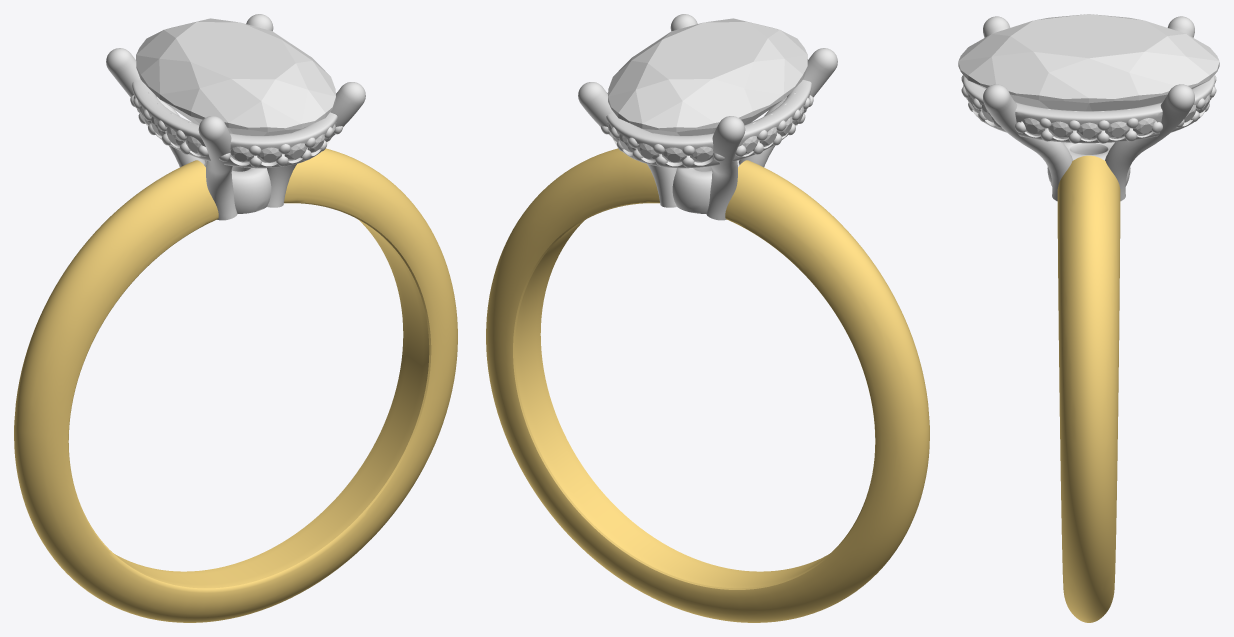
Rendered from RileyPTYGengoval_blender.glb.
3 renders of one model, left to right at view 1: azimuth 30°, elevation 25°; view 2: azimuth 150°, elevation 25°; view 3: azimuth 270°, elevation 25°, orthographic.
Parts seen in each view (by area): view 1: Riley YG for 3d model, Riley dia for 3d model.020, Riley PT for 3d model; view 2: Riley YG for 3d model, Riley dia for 3d model.020, Riley PT for 3d model; view 3: Riley YG for 3d model, Riley dia for 3d model.020, Riley PT for 3d model.
Part boxes in pixels (x1,y1,x2,y2): Riley YG for 3d model: [14, 148, 457, 622]; Riley dia for 3d model.020: [136, 18, 335, 135]; Riley PT for 3d model: [106, 14, 365, 220]; Riley YG for 3d model: [486, 148, 929, 622]; Riley dia for 3d model.020: [608, 18, 807, 135]; Riley PT for 3d model: [578, 14, 837, 220]; Riley YG for 3d model: [1057, 155, 1120, 622]; Riley dia for 3d model.020: [958, 14, 1219, 111]; Riley PT for 3d model: [961, 16, 1216, 201].
Bounding box in the file's own units: 20.1 × 24.76 × 10.41.
